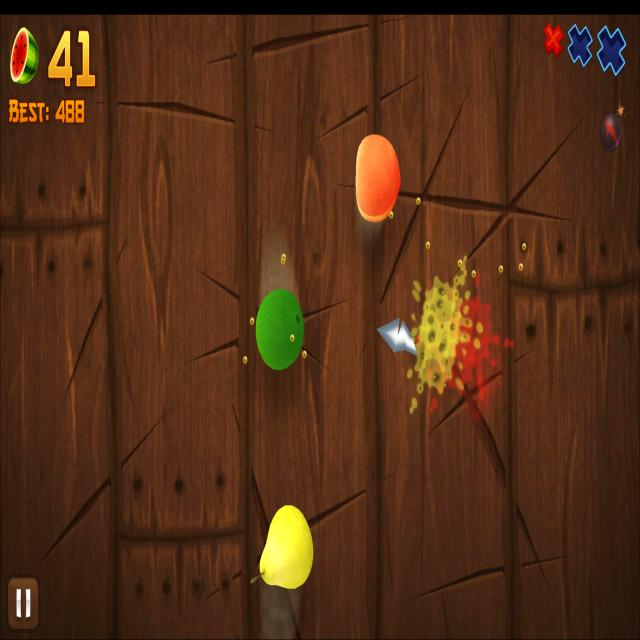fruit: (259, 503, 315, 589), (355, 135, 402, 222), (255, 288, 304, 371)
